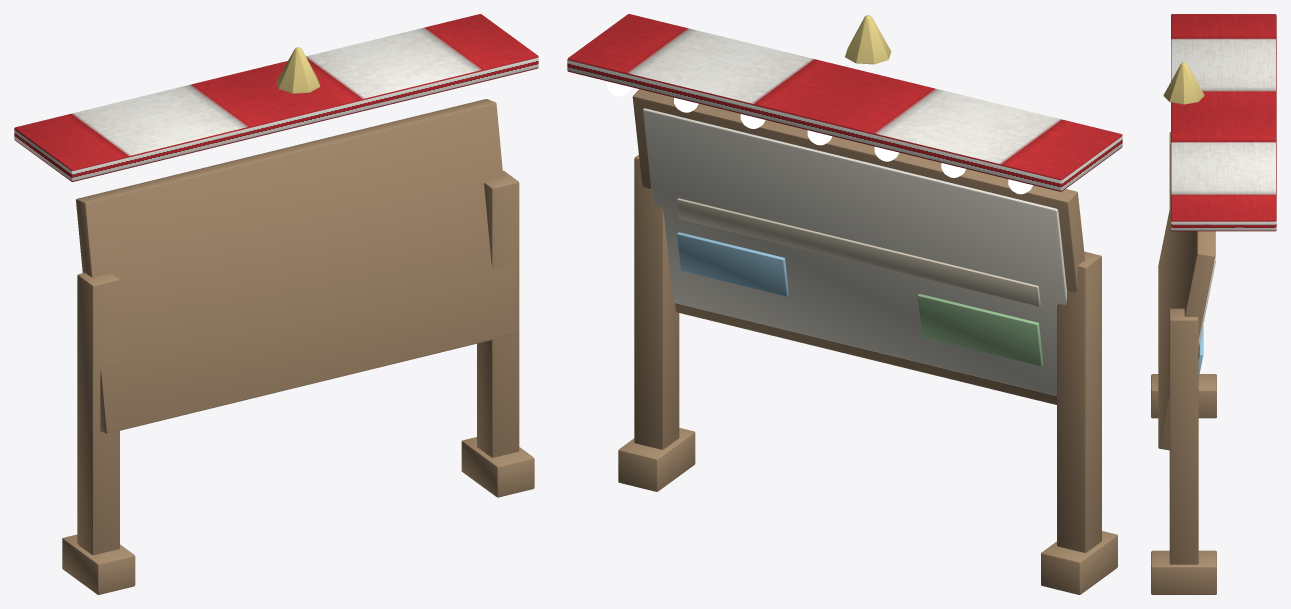
Rendered from th33_parkplan.glb.
The picture shows the model from 3 angles, left to right: view 1: azimuth 30°, elevation 25°; view 2: azimuth 150°, elevation 25°; view 3: azimuth 270°, elevation 25°; orthographic projection. The views are drawn at different scales.
Parts seen in each view (by area): view 1: Cube.005, Cube.014, Cube.001, Cube.003, Cube, Cube.002, Cone; view 2: Cube.004, Cube.014, Cube.005, Cube.001, Cube.003, Cube.006, Cube.008, Cube.009, Cube.002, Cube, Cone; view 3: Cube.014, Cube.003, Cube.005, Cube.002, Cube, Cone, Cube.004, Cube.009.
Boxes of the visible parts, <box> form: Cube.005: <box>76,99,517,433</box>; Cube.014: <box>14,14,538,181</box>; Cube.001: <box>77,273,119,555</box>; Cube.003: <box>477,171,519,457</box>; Cube: <box>62,534,135,594</box>; Cube.002: <box>461,437,534,497</box>; Cone: <box>276,47,320,93</box>; Cube.004: <box>643,108,1066,395</box>; Cube.014: <box>567,14,1122,191</box>; Cube.005: <box>632,89,1084,404</box>; Cube.001: <box>1057,251,1101,552</box>; Cube.003: <box>634,154,679,449</box>; Cube.006: <box>677,198,1040,306</box>; Cube.008: <box>917,294,1043,366</box>; Cube.009: <box>677,232,788,296</box>; Cube.002: <box>618,428,695,491</box>; Cube: <box>1041,531,1117,594</box>; Cone: <box>845,15,891,64</box>; Cube.014: <box>1171,14,1276,231</box>; Cube.003: <box>1169,308,1198,564</box>; Cube.005: <box>1158,210,1215,450</box>; Cube.002: <box>1151,550,1216,594</box>; Cube: <box>1151,374,1216,418</box>; Cone: <box>1163,62,1204,104</box>; Cube.004: <box>1198,231,1215,346</box>; Cube.009: <box>1198,325,1203,377</box>.
Bounding box in the file's own units: 3.7 × 3.64 × 0.9529.
Materials: 12 (1 with a texture image).
